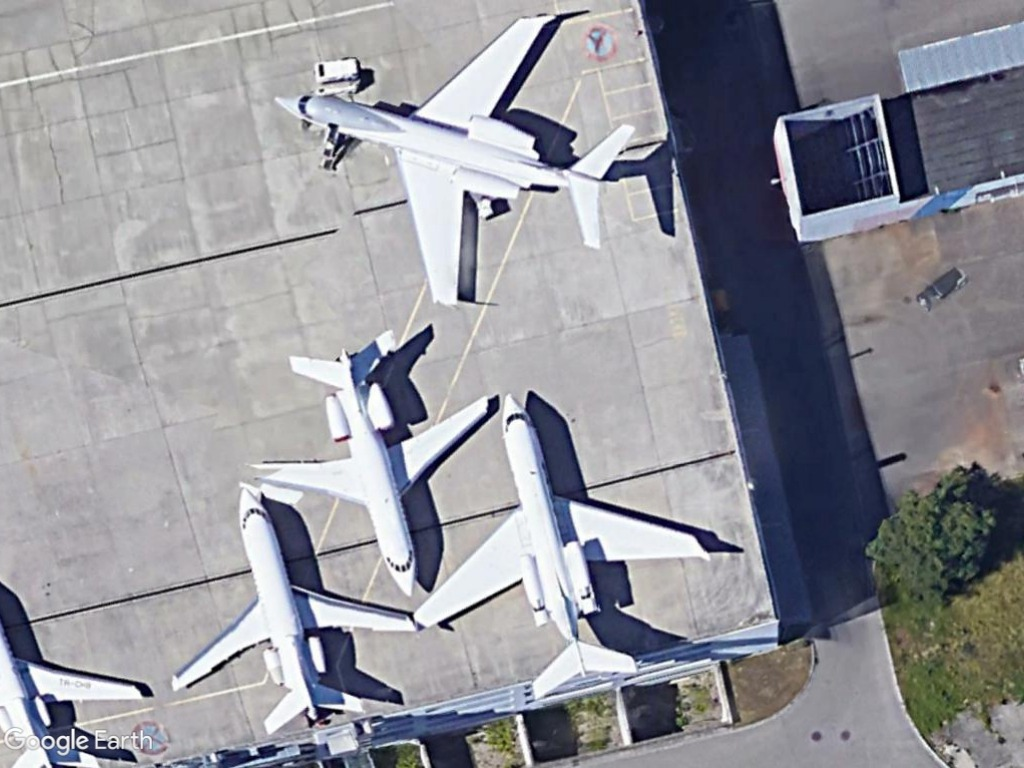chartered: (269, 12, 637, 311), (404, 390, 712, 705), (249, 328, 492, 601), (161, 484, 418, 736)
